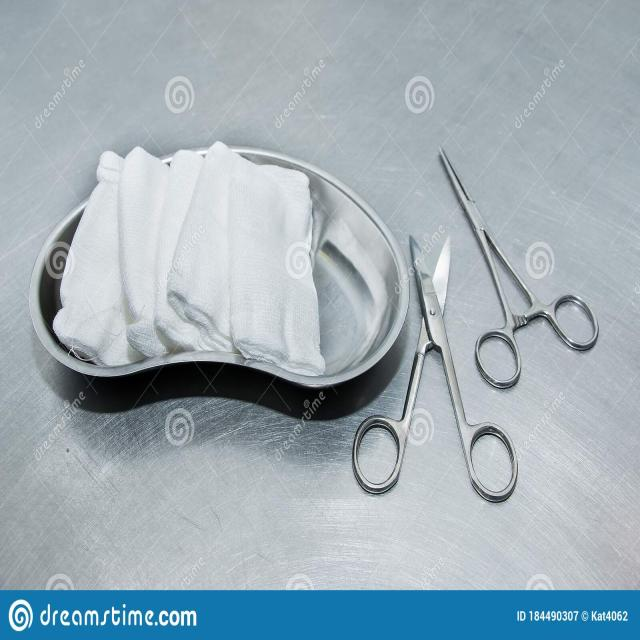B3: (346, 222, 522, 545)
